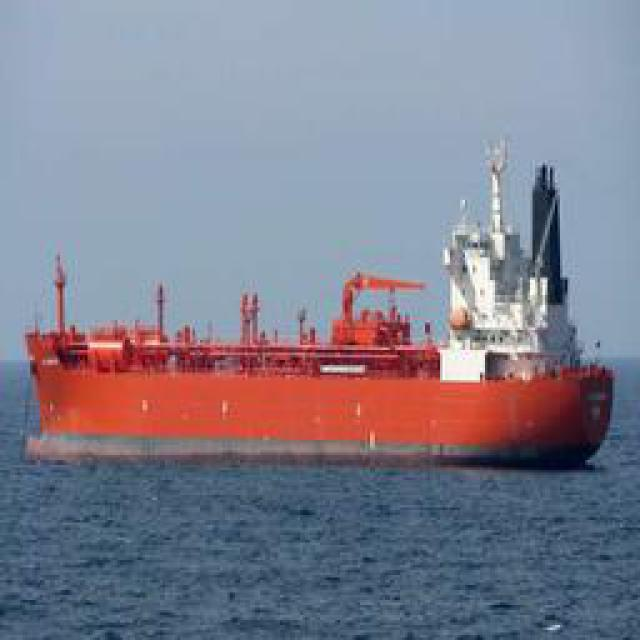Ship: (25, 170, 623, 468)
